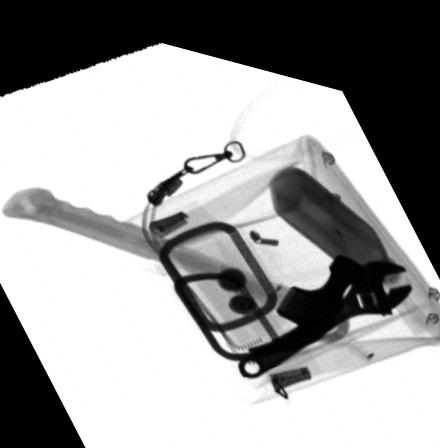Hammer: (0, 183, 366, 343)
Wrench: (235, 238, 412, 364)
